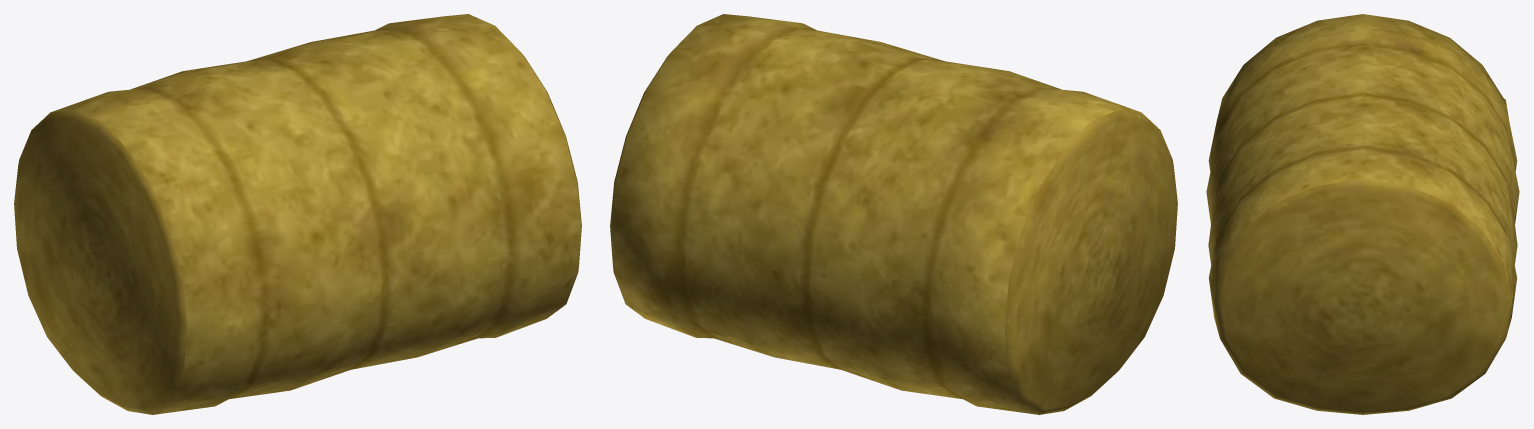
3 renders of one model, left to right at view 1: azimuth 30°, elevation 25°; view 2: azimuth 150°, elevation 25°; view 3: azimuth 270°, elevation 25°, orthographic. The views are drawn at different scales.
Visible parts, largest first — view 1: body0_model0_lod0_mesh0; view 2: body0_model0_lod0_mesh0; view 3: body0_model0_lod0_mesh0.
Part boxes in pixels (<box>): body0_model0_lod0_mesh0: <box>14,14,581,414</box>; body0_model0_lod0_mesh0: <box>610,14,1177,414</box>; body0_model0_lod0_mesh0: <box>1206,14,1519,414</box>.
Size of the model in its own units: 12.16 by 8.36 by 9.53.
1 material, 1 textured.
